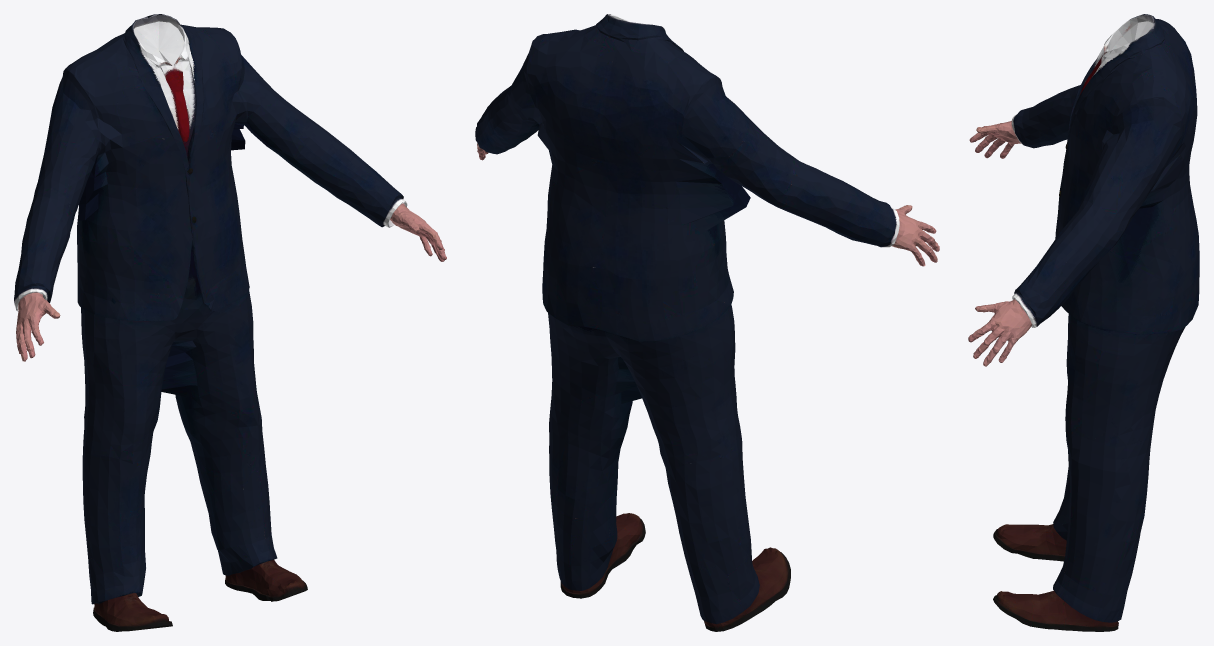
The model's file is ewm_t2politician_outfit.glb.
3 views of the same model, side by side, from view 1: azimuth 30°, elevation 25°; view 2: azimuth 150°, elevation 25°; view 3: azimuth 270°, elevation 25° (orthographic). The views are drawn at different scales.
Parts seen in each view (by area): view 1: ewm_t2politician_outfit; view 2: ewm_t2politician_outfit; view 3: ewm_t2politician_outfit.
Part boxes in pixels (left/top/right/bottom): ewm_t2politician_outfit: left=14, top=14, right=446, bottom=631; ewm_t2politician_outfit: left=475, top=14, right=939, bottom=631; ewm_t2politician_outfit: left=968, top=14, right=1199, bottom=631.
Bounding box in the file's own units: 1.3 × 1.67 × 0.6115.
Materials: 1 (1 with a texture image).
